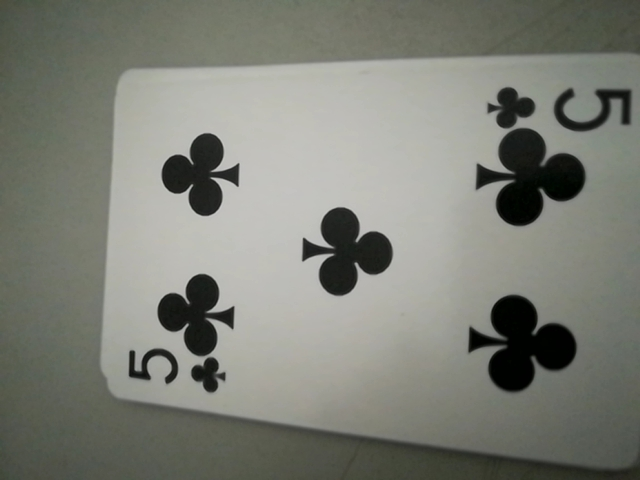mh 5: (484, 77, 635, 135), (119, 344, 232, 402)
